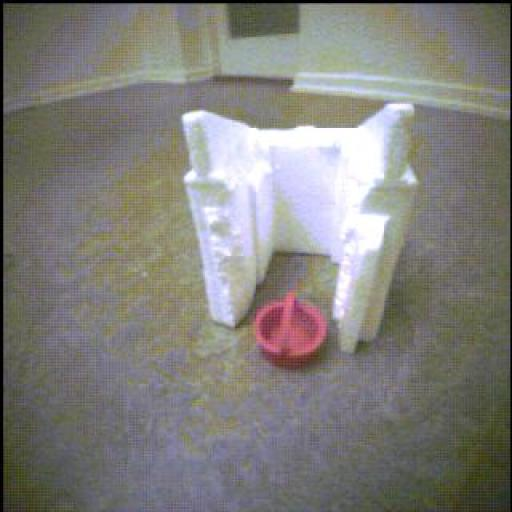Bucket: (256, 292, 328, 369)
